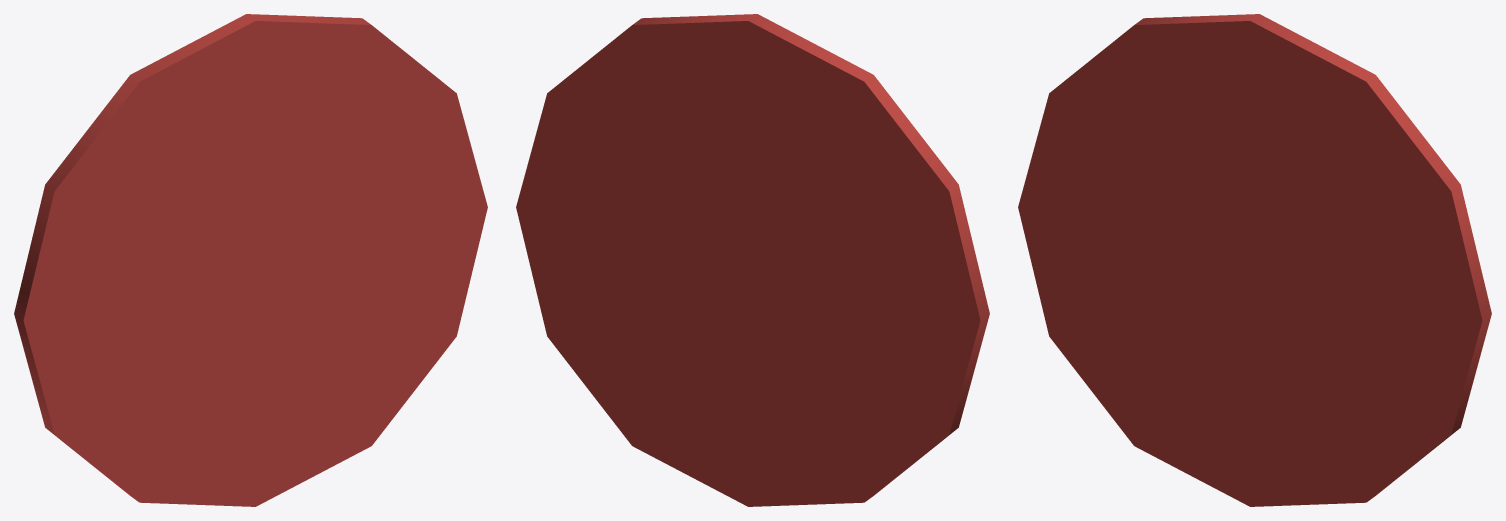
Rendered from rear_45_lod2.glb.
The picture shows the model from 3 angles, left to right: view 1: azimuth 30°, elevation 25°; view 2: azimuth 150°, elevation 25°; view 3: azimuth 330°, elevation 25°; orthographic projection.
Parts seen in each view (by area): view 1: rear_45_lod2; view 2: rear_45_lod2; view 3: rear_45_lod2.
Boxes of the visible parts, x1,y1,x2,y2 form: rear_45_lod2: (14, 14, 487, 506); rear_45_lod2: (516, 14, 989, 506); rear_45_lod2: (1018, 14, 1491, 506).
Size of the model in its own units: 0.2276 by 0.2276 by 0.008.
